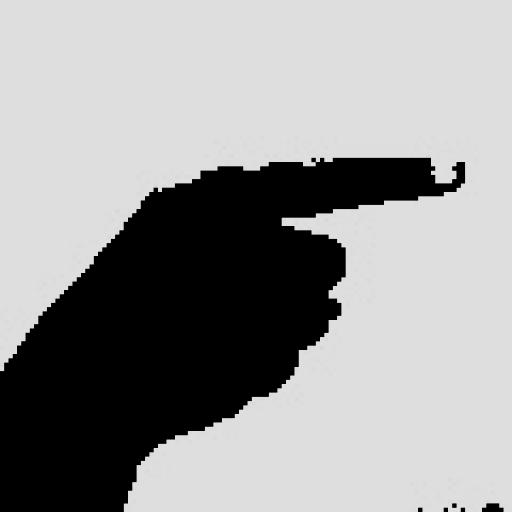index_left: (8, 154, 468, 362)
